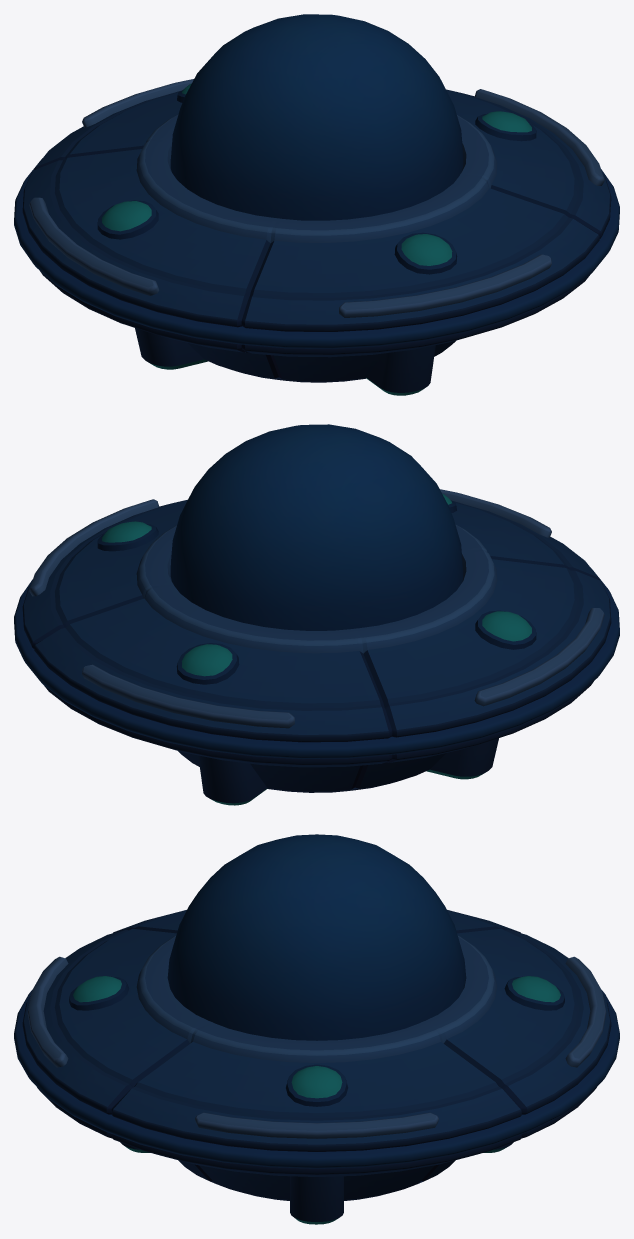
Rendered from Ufo_Player.fbx.
3 views of the same model, one above another, from view 1: azimuth 30°, elevation 25°; view 2: azimuth 150°, elevation 25°; view 3: azimuth 270°, elevation 25° (orthographic).
Visible parts, largest first — view 1: Ufo_Player; view 2: Ufo_Player; view 3: Ufo_Player.
Boxes of the visible parts, bbox=[...] form: Ufo_Player: bbox=[14, 14, 619, 395]; Ufo_Player: bbox=[14, 424, 619, 805]; Ufo_Player: bbox=[14, 834, 619, 1224].
Bounding box in the file's own units: 1.69 × 0.9133 × 1.69.
